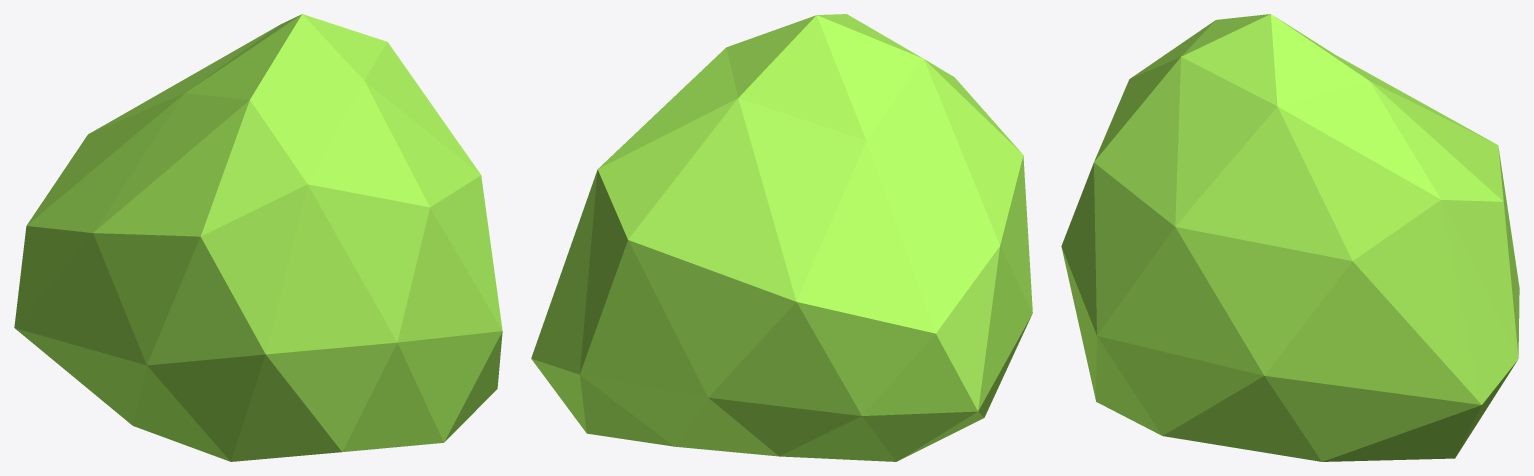
Rendered from bush-1.fbx.
3 renders of one model, left to right at view 1: azimuth 30°, elevation 25°; view 2: azimuth 150°, elevation 25°; view 3: azimuth 270°, elevation 25°, orthographic. The views are drawn at different scales.
Visible parts, largest first — view 1: Bush; view 2: Bush; view 3: Bush.
Part boxes in pixels (left/top/right/bottom): Bush: left=14, top=14, right=502, bottom=461; Bush: left=531, top=14, right=1032, bottom=461; Bush: left=1061, top=14, right=1519, bottom=461.
Size of the model in its own units: 292 by 270 by 293.
